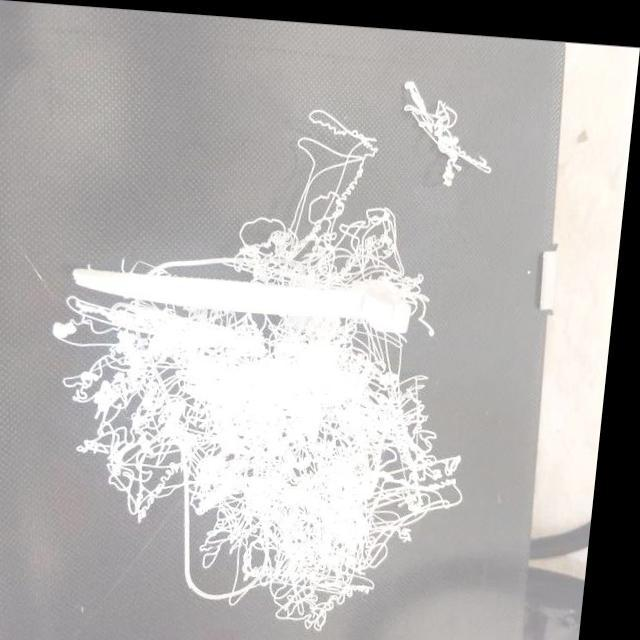spaghetti: (222, 353, 417, 513), (126, 351, 225, 476), (268, 502, 388, 603), (275, 195, 391, 277), (396, 399, 461, 514), (405, 88, 484, 172), (210, 476, 278, 569), (79, 347, 139, 406)
